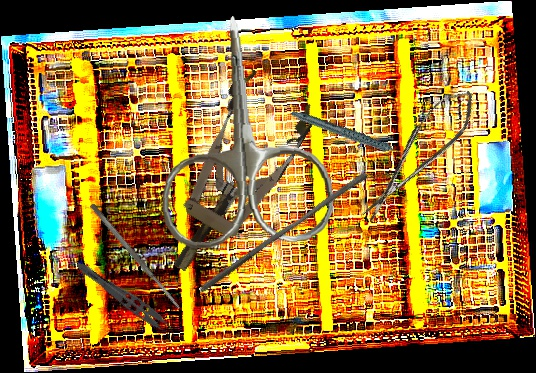Handpiece: (290, 88, 409, 183)
Iris Scissors: (148, 10, 338, 251)
Micro Scissor: (348, 80, 487, 229)
Pusher: (197, 164, 370, 301)
Spatula Surgical: (89, 202, 182, 311)
Speculum: (139, 64, 322, 290)
Tissue Forceps: (69, 258, 182, 345)
